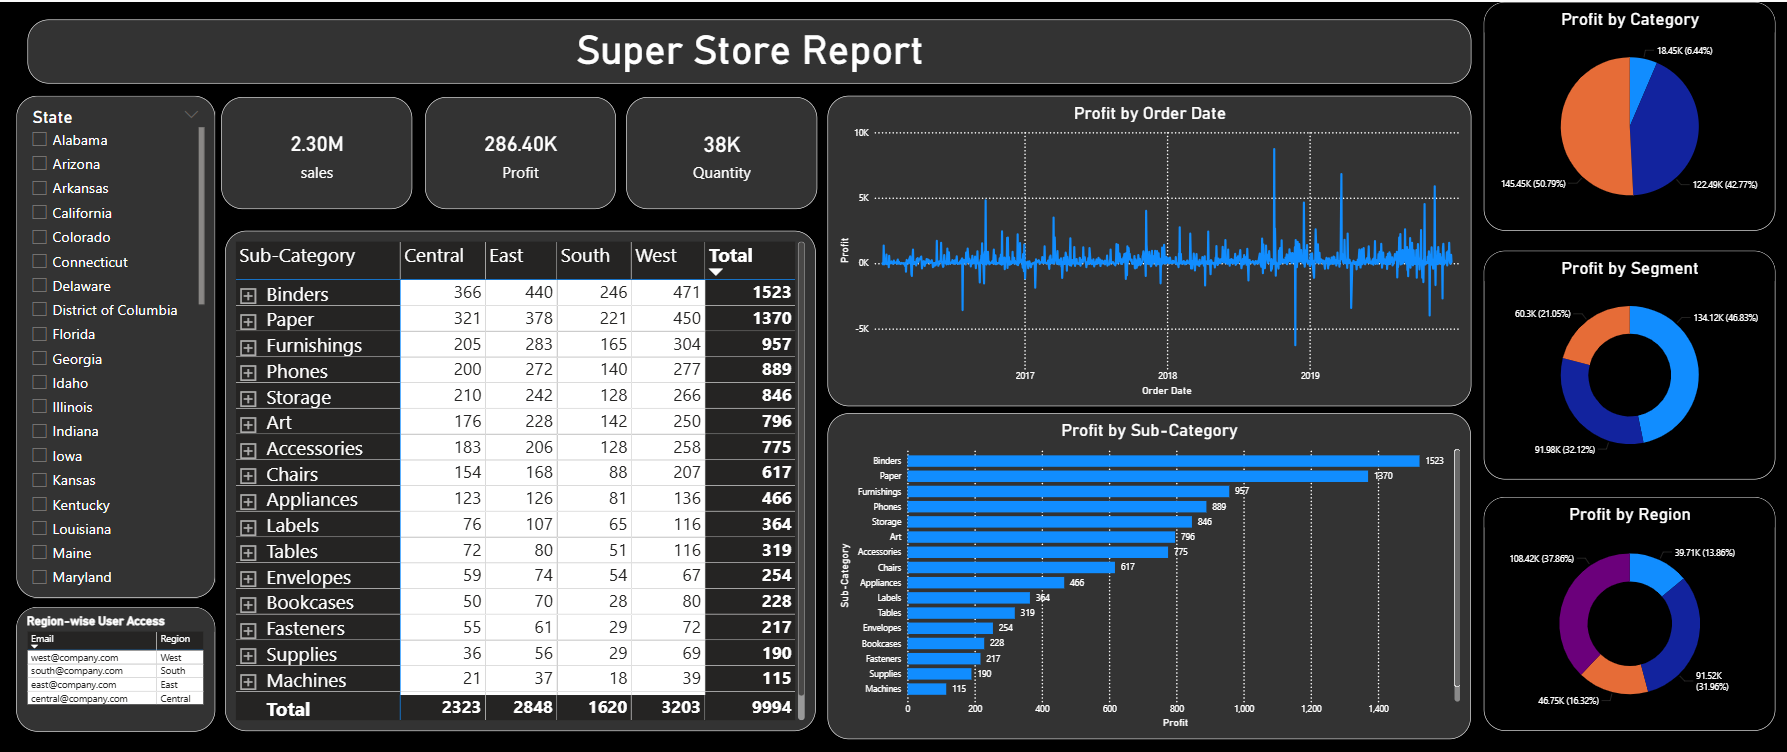

The dashboard page shown, as its layout file describes it:
{"tool":"powerbi","page":{"name":"Page 1","canvas":[2500,1050],"ordinal":0},"visuals":[{"type":"donutChart","title":"Profit by Region","fields":{"Series":["Orders.Region"],"Y":["Sum(Orders.Profit)"]},"box":[2076.1,693.2,408.2,327.2],"z":0},{"type":"donutChart","title":"Profit by Segment","fields":{"Series":["Orders.Segment"],"Y":["Sum(Orders.Profit)"]},"box":[2076.1,348.4,408.2,320.2],"z":1000},{"type":"pieChart","title":"Profit by Category","fields":{"Series":["Orders.Category"],"Y":["Sum(Orders.Profit)"]},"box":[2076.1,0,408.2,320.2],"z":2000},{"type":"textbox","title":"Super Store Report","box":[38.7,24.6,2019.8,89.7],"z":3000},{"type":"card","fields":{"Values":["Sum(Orders.Sales)"]},"box":[309.7,133.7,267.4,156.6],"z":4000},{"type":"card","fields":{"Values":["Sum(Orders.Profit)"]},"box":[594.7,133.7,267.4,156.6],"z":5000},{"type":"card","fields":{"Values":["Sum(Orders.Quantity)"]},"box":[876.2,133.7,267.4,156.6],"z":6000},{"type":"slicer","fields":{"Values":["Orders.State"]},"box":[22,132,278,702],"z":7000},{"type":"lineChart","fields":{"Category":["Orders.Order Date.Variation.Date Hierarchy.Year"],"Y":["Sum(Orders.Profit)"]},"box":[1157.7,132,900.8,434.6],"z":8000},{"type":"clusteredBarChart","fields":{"Category":["Orders.Sub-Category"],"Y":["CountNonNull(Orders.Profit)"]},"box":[1158,576,900,456],"z":9000},{"type":"pivotTable","fields":{"Columns":["Orders.Region"],"Rows":["Orders.Sub-Category","Sheet1.Region","Sheet1.Email"],"Values":["CountNonNull(Orders.Sales)"]},"box":[314,320,826,700],"z":10000},{"type":"tableEx","title":"Region-wise User Access","fields":{"Values":["Sheet1.Email","Sheet1.Region"]},"box":[22,846,278,174],"z":11000}]}

Visuals, with their boxes in screenshot pixels (x1, y1, x2, y2), scaled from the page's 2500x1050 canvas onto the 1787x752 screenshot:
"Profit by Region" donutChart: bbox=[1484, 496, 1776, 731]
"Profit by Segment" donutChart: bbox=[1484, 250, 1776, 479]
"Profit by Category" pieChart: bbox=[1484, 0, 1776, 229]
"Super Store Report" textbox: bbox=[28, 18, 1471, 82]
card - Sum(Orders.Sales): bbox=[221, 96, 413, 208]
card - Sum(Orders.Profit): bbox=[425, 96, 616, 208]
card - Sum(Orders.Quantity): bbox=[626, 96, 817, 208]
slicer - Orders.State: bbox=[16, 95, 214, 597]
lineChart - Orders.Order Date.Variation.Date Hierarchy.Year x Sum(Orders.Profit): bbox=[828, 95, 1471, 406]
clusteredBarChart - Orders.Sub-Category x CountNonNull(Orders.Profit): bbox=[828, 413, 1471, 739]
pivotTable - Orders.Region x Orders.Sub-Category: bbox=[224, 229, 815, 731]
"Region-wise User Access" tableEx: bbox=[16, 606, 214, 731]
